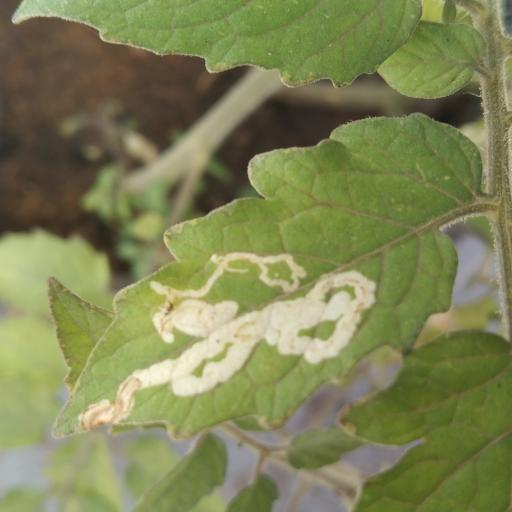Leaf_Miner: (43, 111, 485, 446)
